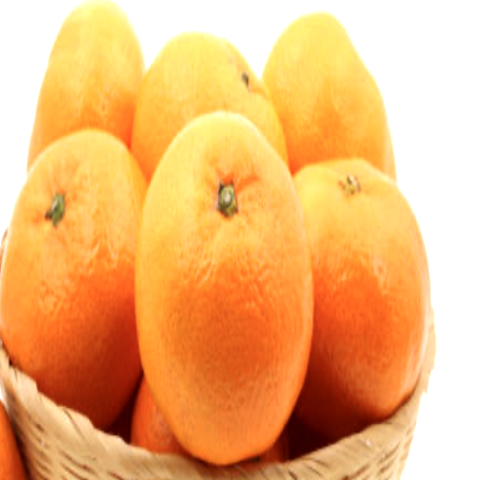orange: (130, 100, 325, 463), (262, 136, 468, 431), (0, 103, 156, 464)
